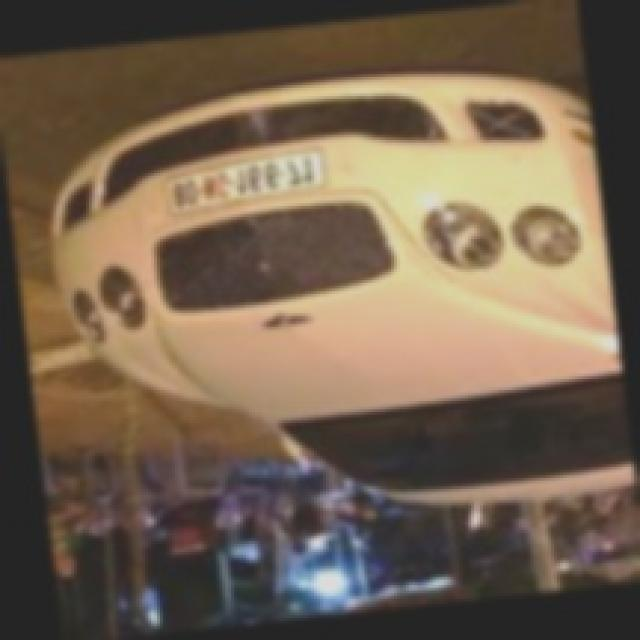bien_ngoai_giao: (164, 150, 328, 213)
